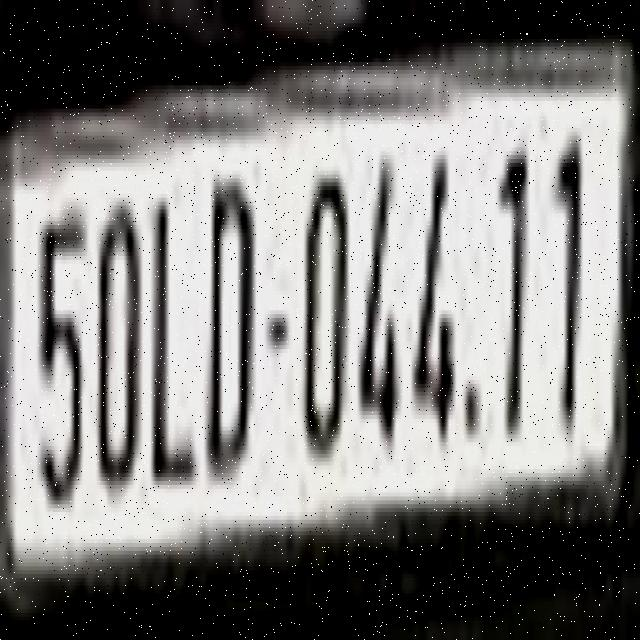0: (298, 151, 348, 481), (96, 190, 140, 497)
1: (551, 109, 589, 446), (494, 118, 531, 456)
4: (411, 134, 460, 475), (356, 140, 402, 484)
5: (37, 198, 86, 512)
D: (204, 155, 258, 497)
L: (149, 182, 198, 500)
